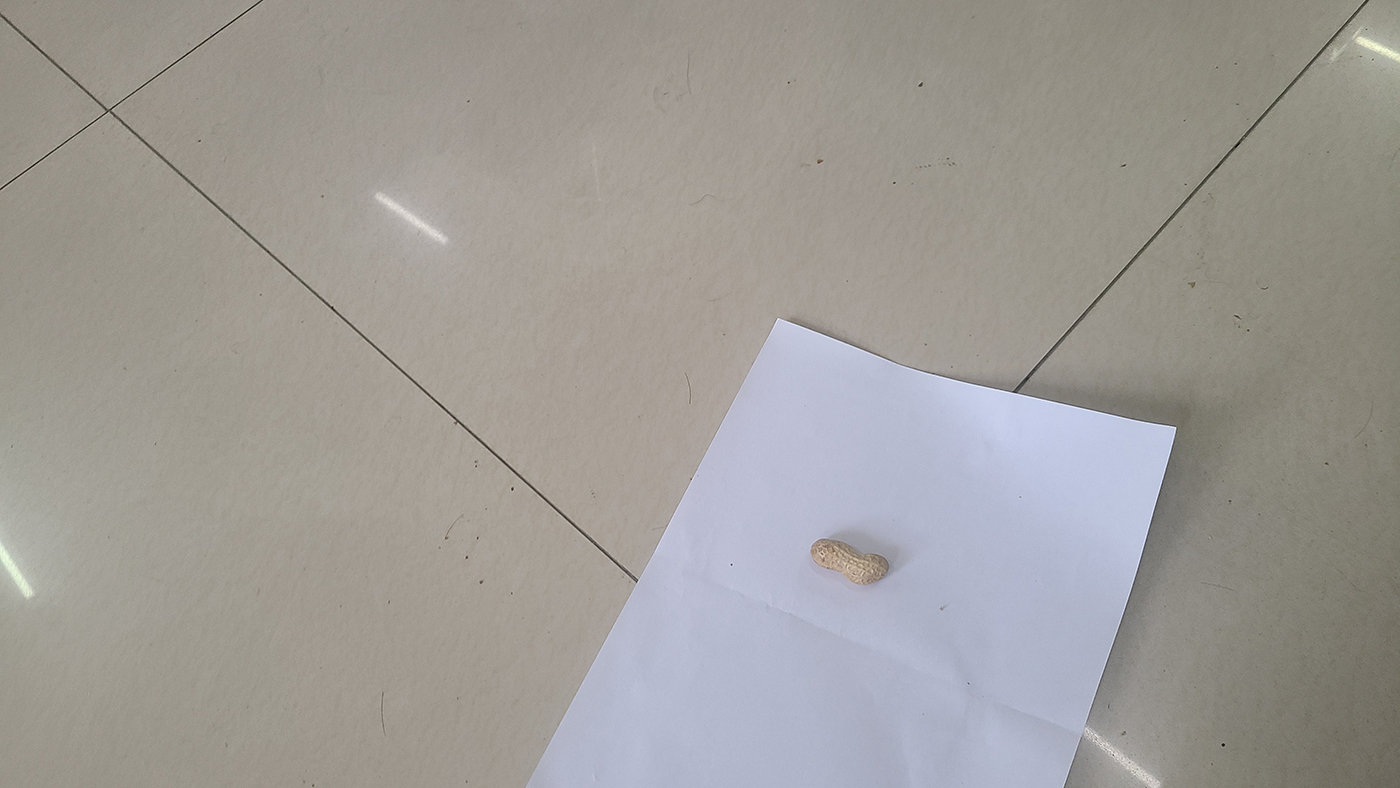h: (811, 538, 890, 586)
